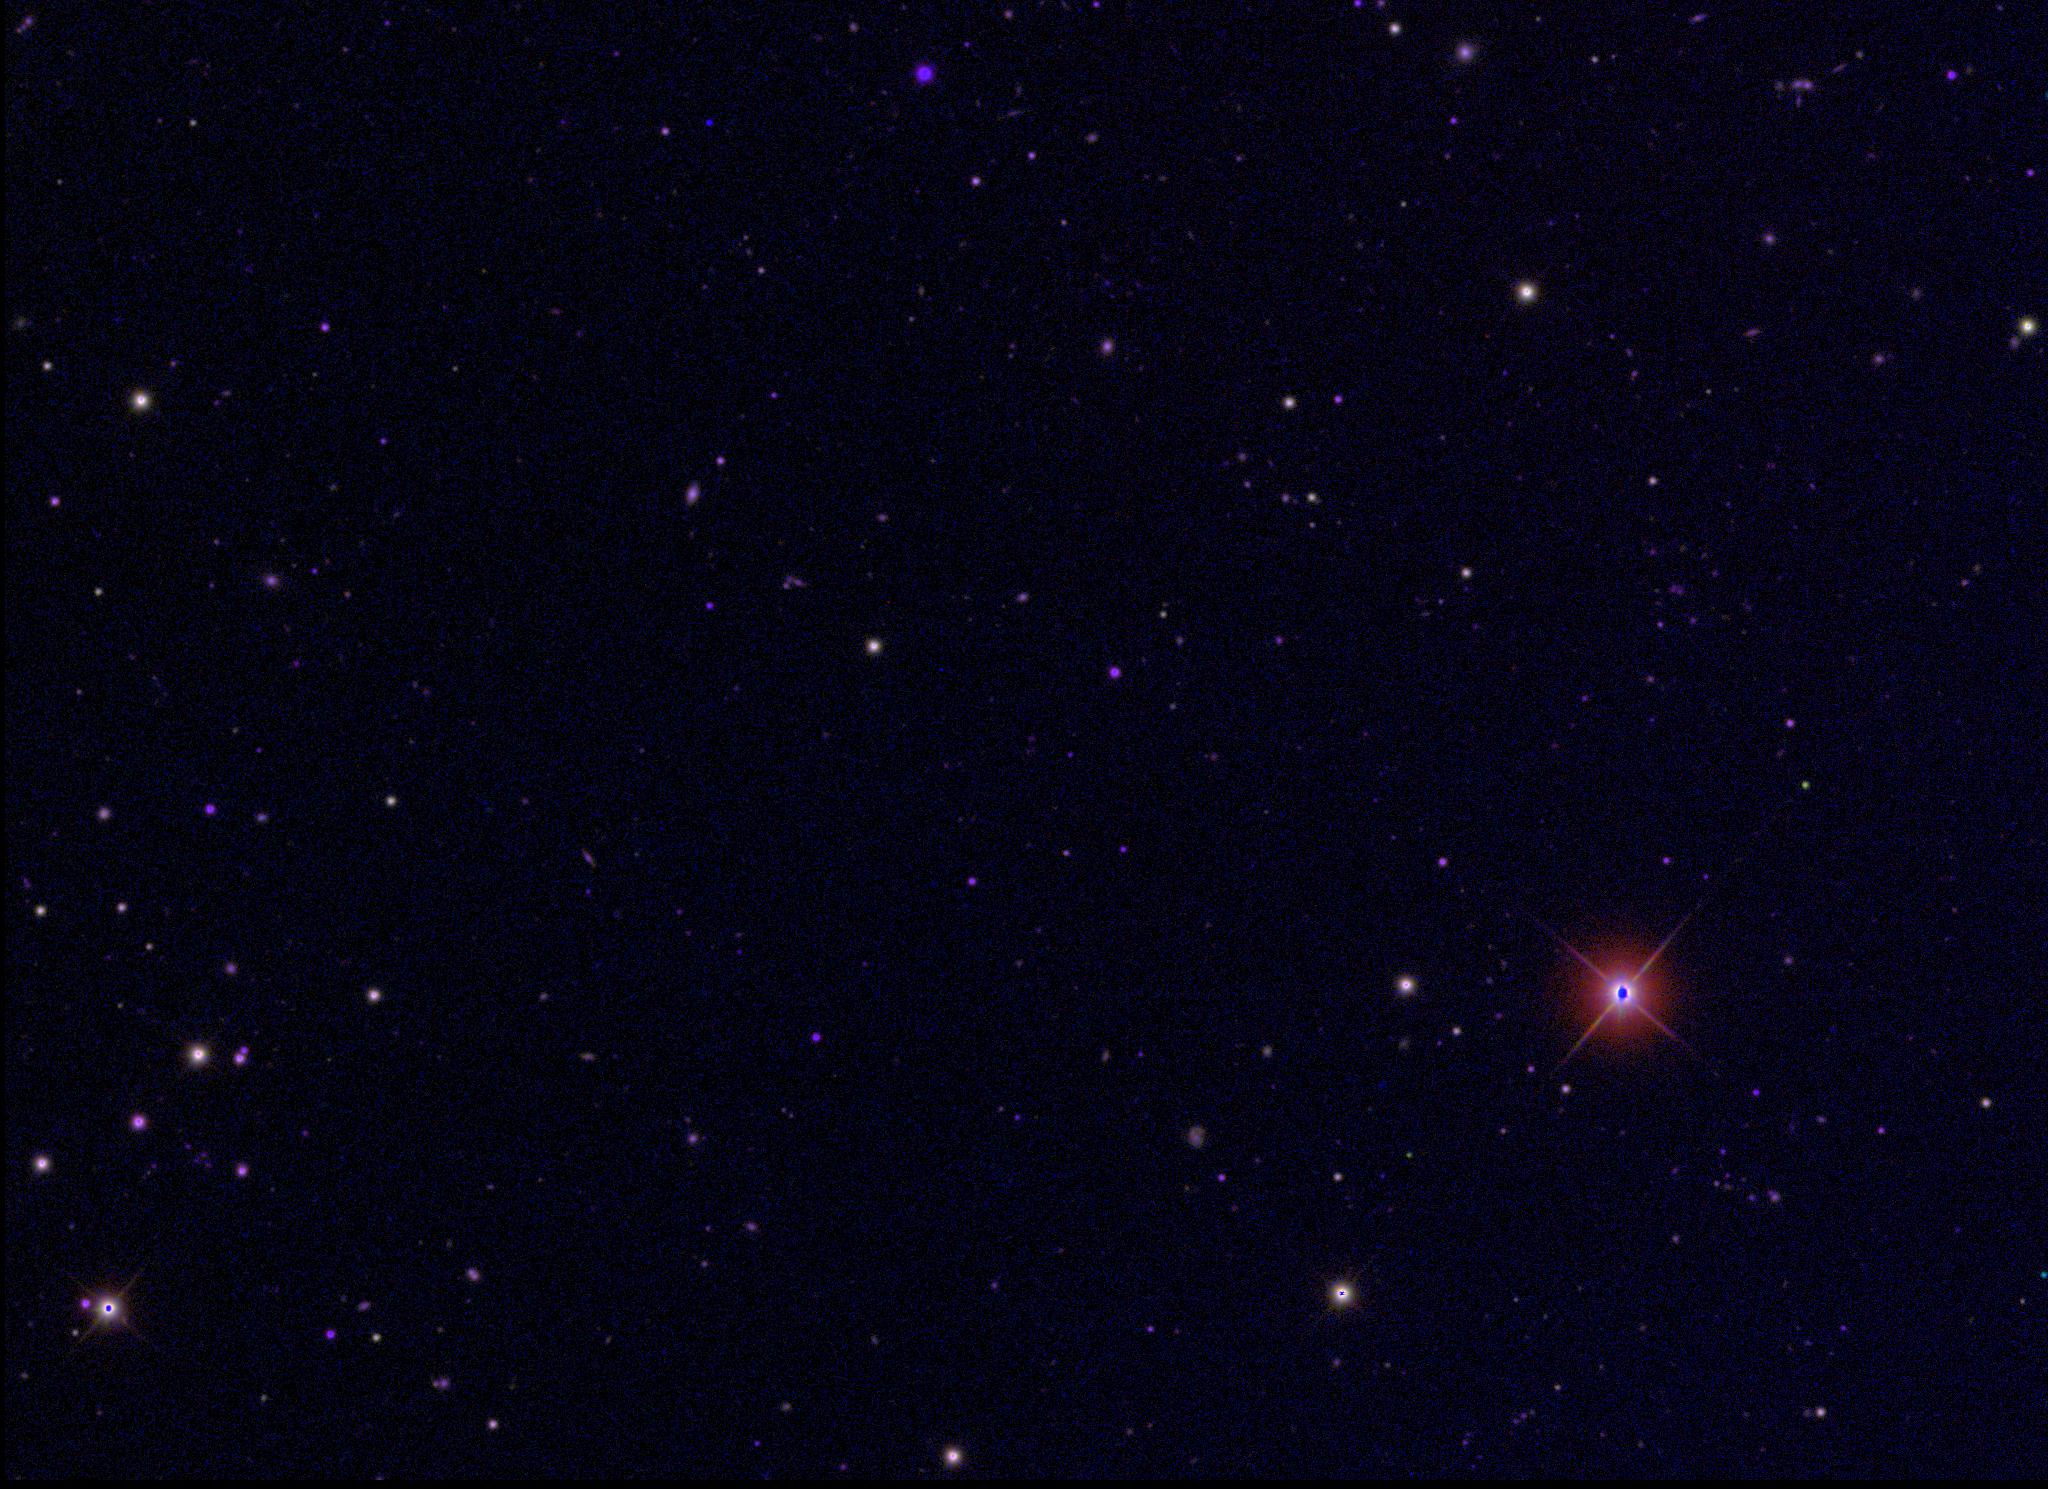L: (701, 119, 716, 134)
